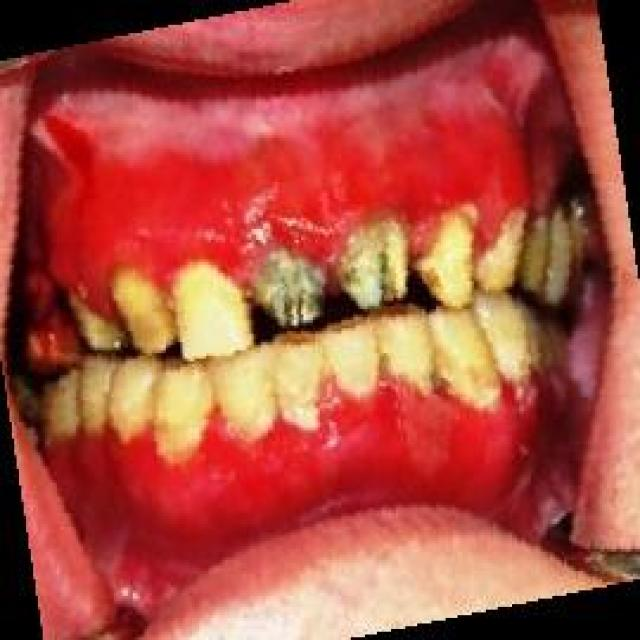caries: (249, 247, 331, 328)
